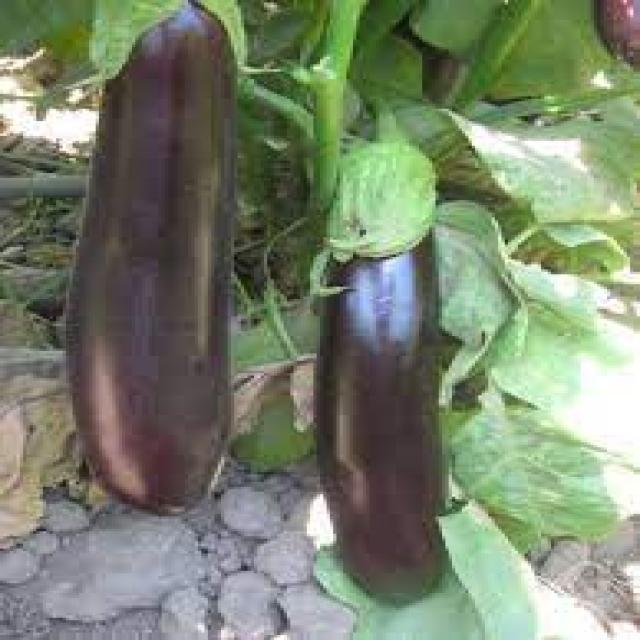eggplant: (67, 0, 248, 517), (313, 136, 439, 600)
